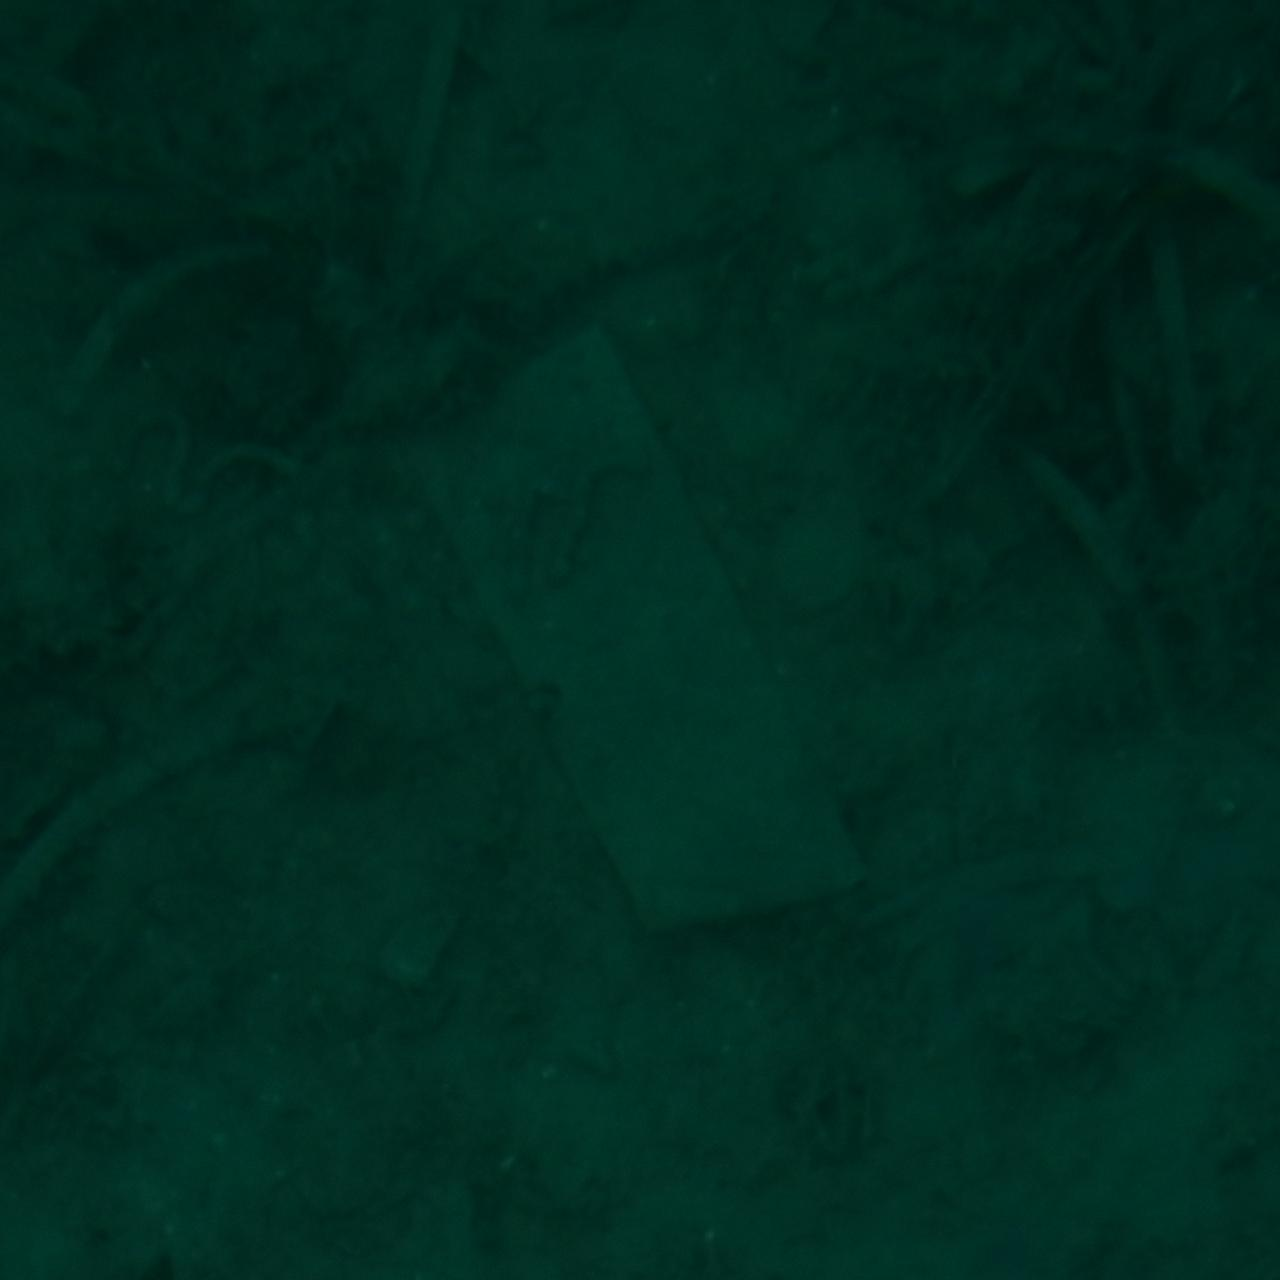Rifiuto: (390, 322, 890, 958)
